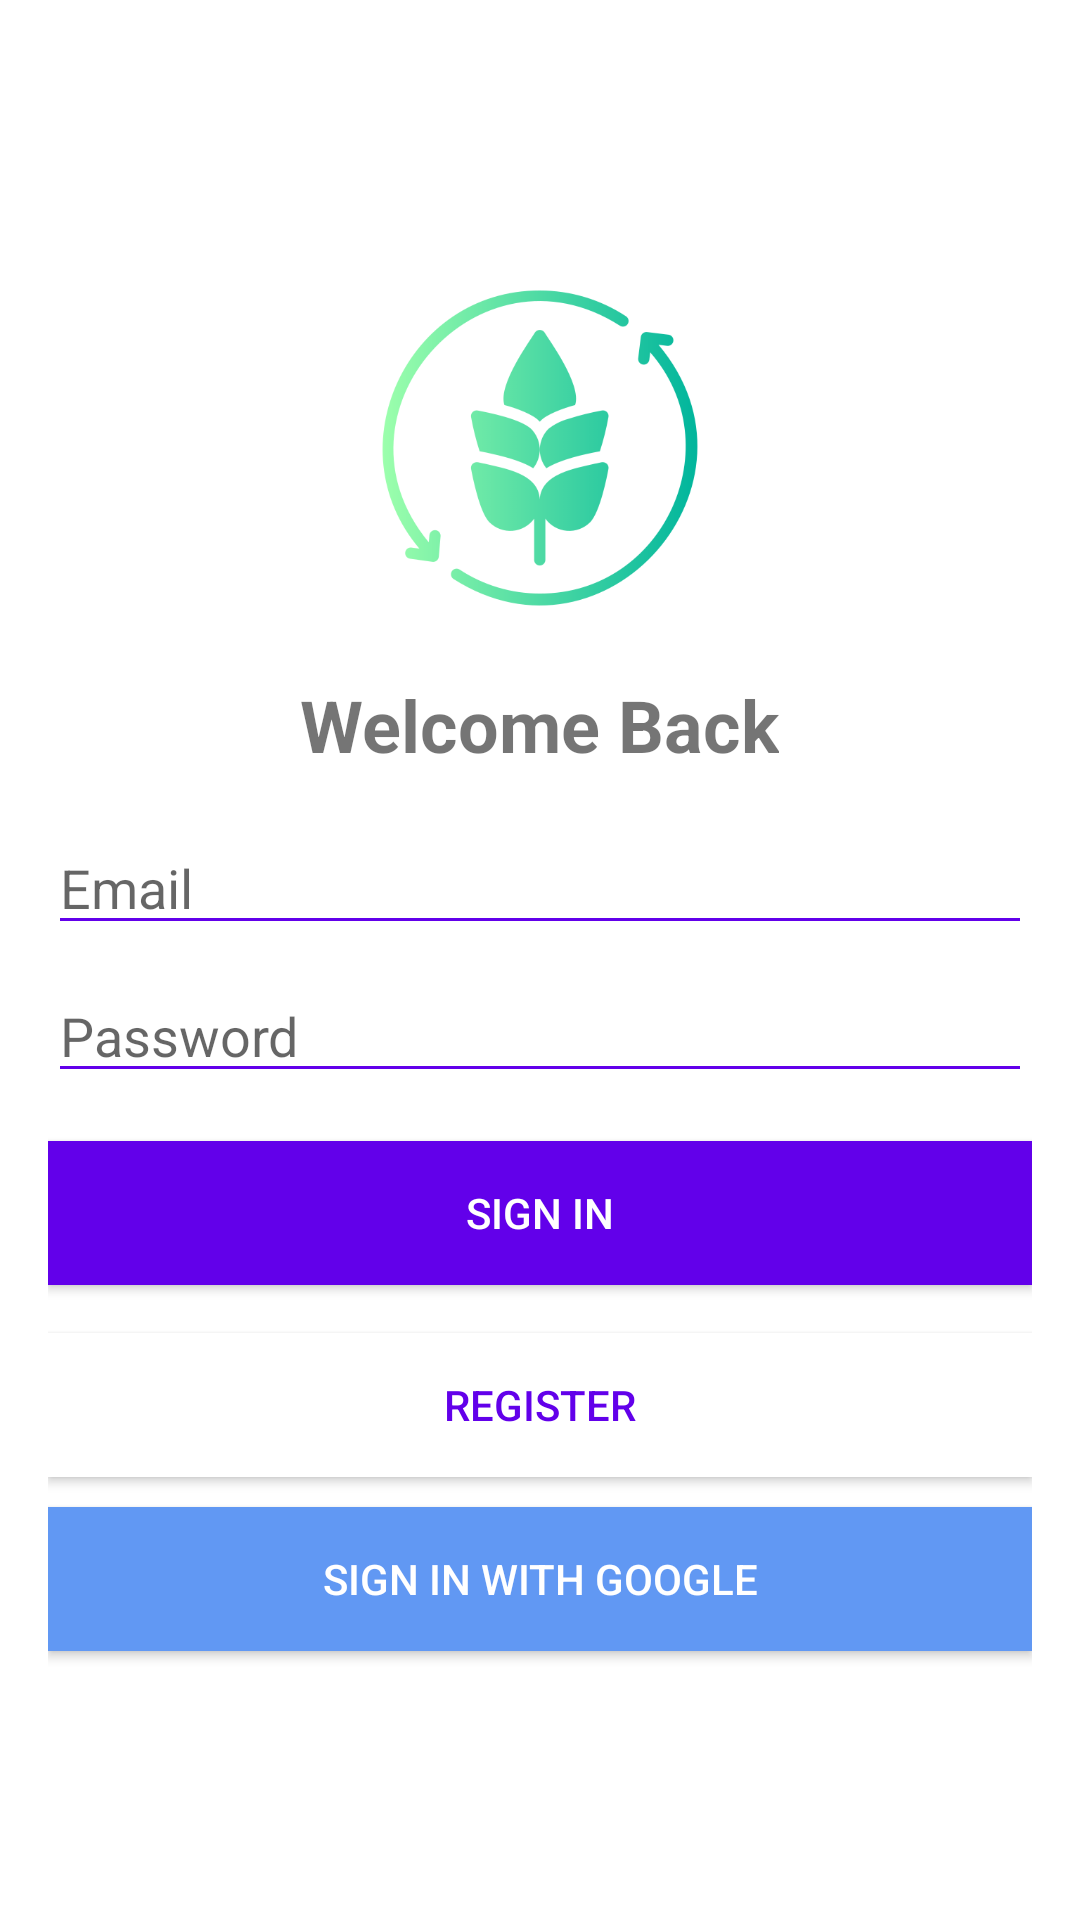

Screen size 1080w x 1920h. Icon name, then its box in pixels as bbox=[x1, y1, x2, y2]:
rotation: bbox=[382, 290, 698, 606]
